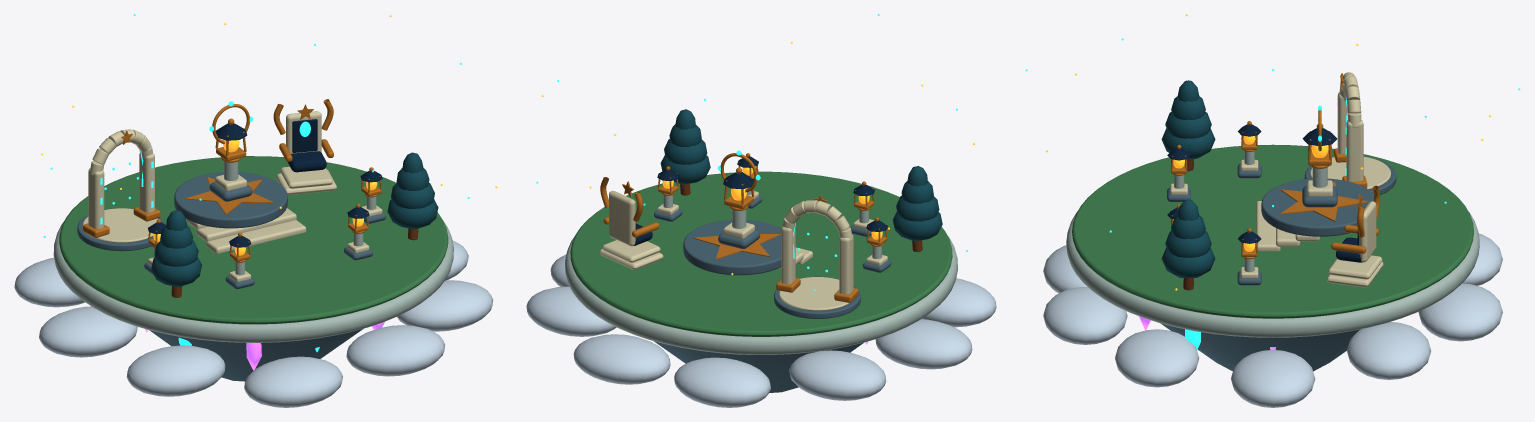
The model's file is 06_star_lantern_island.glb.
The picture shows the model from 3 angles, left to right: view 1: azimuth 30°, elevation 25°; view 2: azimuth 150°, elevation 25°; view 3: azimuth 270°, elevation 25°; orthographic projection. The views are drawn at different scales.
Parts seen in each view (by area): view 1: floating_island_garden, floating_island_upper, cloud_cluster.006, cloud_cluster.008, cloud_cluster.007, royal_lamp_dais, cloud_cluster.005, cloud_cluster.009, floating_island_lower, cloud_cluster.004, gate_inlay, royal_steps (+18 smaller); view 2: floating_island_garden, floating_island_upper, cloud_cluster.002, cloud_cluster.004, cloud_cluster.003, cloud_cluster.005, royal_lamp_dais, cloud_cluster.001, cloud_cluster.006, floating_island_lower, gate_inlay, throne_back (+13 smaller); view 3: floating_island_garden, floating_island_upper, cloud_cluster, cloud_cluster.009, cloud_cluster.001, floating_island_lower, cloud_cluster.008, royal_lamp_dais, cloud_cluster.002, cloud_cluster.007, cloud_cluster.003, gate_pillar.001 (+14 smaller).
Part boxes in pixels (x1,y1,x2,y2): floating_island_garden: [59, 156, 448, 324]; floating_island_upper: [53, 221, 453, 342]; cloud_cluster.006: [126, 345, 225, 396]; cloud_cluster.008: [346, 325, 444, 376]; cloud_cluster.007: [244, 356, 342, 407]; royal_lamp_dais: [174, 172, 287, 228]; cloud_cluster.005: [39, 306, 137, 357]; cloud_cluster.009: [397, 280, 493, 331]; floating_island_lower: [149, 328, 363, 381]; cloud_cluster.004: [14, 257, 85, 307]; gate_inlay: [82, 208, 157, 242]; royal_steps: [206, 220, 306, 253]; floating_island_garden: [570, 171, 952, 336]; floating_island_upper: [565, 236, 957, 354]; cloud_cluster.002: [573, 334, 670, 384]; cloud_cluster.004: [789, 350, 886, 400]; cloud_cluster.003: [674, 357, 770, 407]; cloud_cluster.005: [875, 319, 972, 369]; royal_lamp_dais: [683, 220, 781, 275]; cloud_cluster.001: [526, 286, 616, 336]; cloud_cluster.006: [921, 278, 996, 327]; floating_island_lower: [654, 341, 863, 392]; gate_inlay: [779, 277, 852, 310]; throne_back: [609, 190, 635, 246]; floating_island_garden: [1072, 144, 1473, 318]; floating_island_upper: [1066, 211, 1479, 337]; cloud_cluster: [1231, 350, 1315, 407]; cloud_cluster.009: [1115, 329, 1199, 387]; cloud_cluster.001: [1347, 322, 1431, 379]; floating_island_lower: [1160, 323, 1360, 371]; cloud_cluster.008: [1043, 287, 1127, 344]; royal_lamp_dais: [1261, 178, 1373, 236]; cloud_cluster.002: [1418, 283, 1502, 341]; cloud_cluster.007: [1043, 245, 1087, 293]; cloud_cluster.003: [1462, 233, 1502, 285]; gate_pillar.001: [1346, 120, 1363, 181].
Size of the model in its own units: 10.7 by 6.75 by 10.54.
